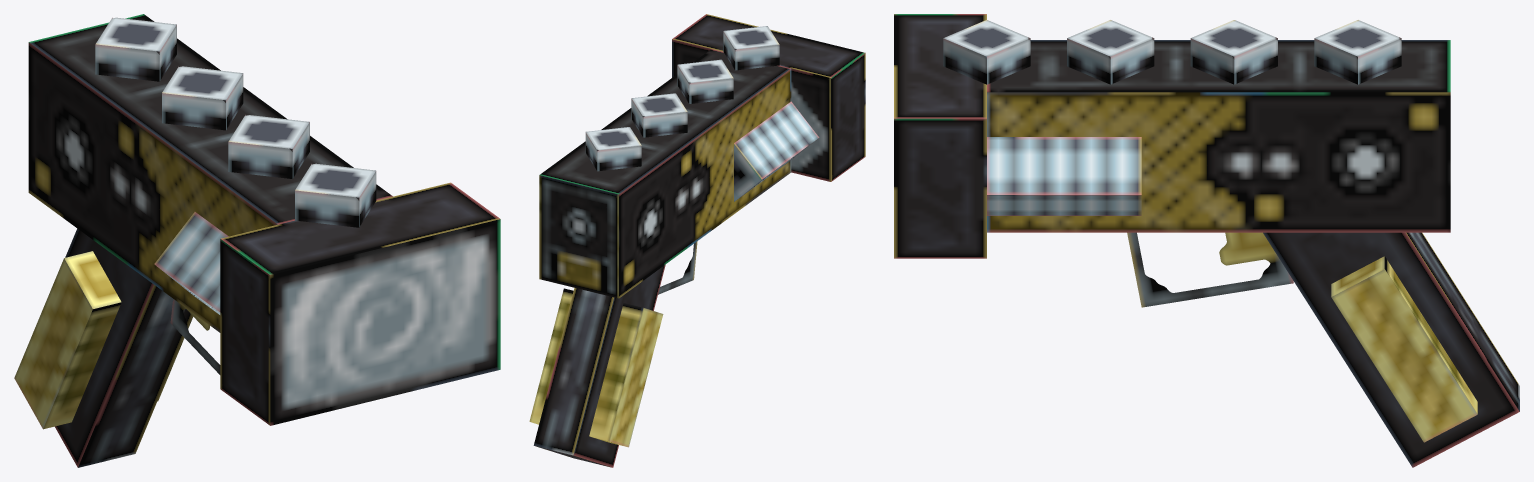
The model's file is Pistol.obj.
3 views of the same model, side by side, from view 1: azimuth 30°, elevation 25°; view 2: azimuth 150°, elevation 25°; view 3: azimuth 270°, elevation 25° (orthographic). The views are drawn at different scales.
Visible parts, largest first — view 1: BarrelEnd, Barrel, Piston, Handle, Grip, Pipe, Trigger; view 2: Barrel, BarrelEnd, Handle, Piston, Grip, Pipe, Trigger; view 3: Barrel, BarrelEnd, Handle, Piston, Grip, Pipe, Trigger.
Boxes of the visible parts, x1=… form: BarrelEnd: x1=220, y1=182, x2=500, y2=425; Barrel: x1=28, y1=14, x2=392, y2=332; Piston: x1=95, y1=17, x2=376, y2=227; Handle: x1=55, y1=228, x2=192, y2=467; Grip: x1=14, y1=251, x2=193, y2=429; Pipe: x1=154, y1=212, x2=228, y2=314; Trigger: x1=170, y1=299, x2=220, y2=374; Barrel: x1=539, y1=49, x2=791, y2=298; BarrelEnd: x1=672, y1=14, x2=865, y2=181; Handle: x1=533, y1=264, x2=665, y2=467; Piston: x1=585, y1=26, x2=779, y2=171; Grip: x1=529, y1=288, x2=663, y2=447; Pipe: x1=734, y1=101, x2=819, y2=201; Trigger: x1=658, y1=241, x2=697, y2=294; Barrel: x1=987, y1=40, x2=1450, y2=232; BarrelEnd: x1=894, y1=14, x2=986, y2=258; Handle: x1=1263, y1=232, x2=1519, y2=467; Piston: x1=943, y1=20, x2=1401, y2=84; Grip: x1=1331, y1=256, x2=1477, y2=442; Pipe: x1=987, y1=137, x2=1141, y2=215; Trigger: x1=1127, y1=232, x2=1293, y2=307.
Size of the model in its own units: 0.5 by 0.9291 by 1.26.
1 material, 1 textured.
